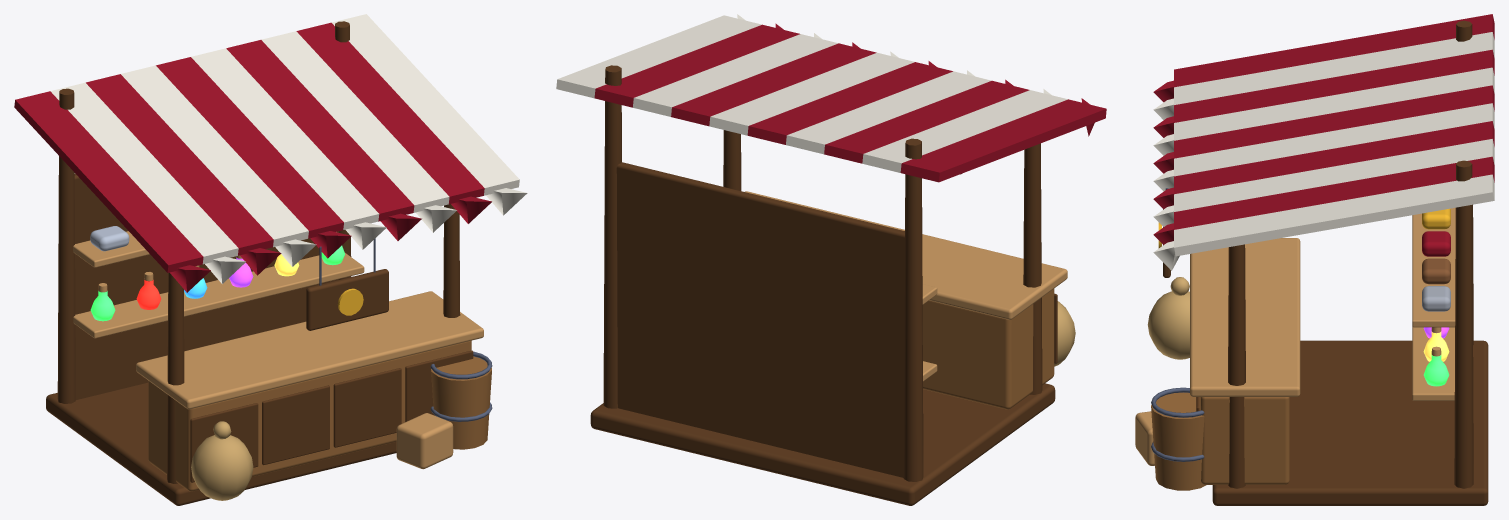
The model's file is prop_shop.glb.
3 views of the same model, side by side, from view 1: azimuth 30°, elevation 25°; view 2: azimuth 150°, elevation 25°; view 3: azimuth 270°, elevation 25° (orthographic). The views are drawn at different scales.
Visible parts, largest first — view 1: CounterTop, BackWall, Awning0, Floor, Counter, Awning7, Awning5, Awning3, Awning4, Awning6, Awning2, Awning8 (+26 smaller); view 2: BackWall, Floor, Counter, CounterTop, Awning0, Post0, Post1, Awning2, Awning5, Awning3, Awning6, Awning4 (+7 smaller); view 3: Floor, CounterTop, Awning9, Counter, Awning5, Awning4, Awning3, Awning6, Awning2, Awning7, Awning1, Awning0 (+17 smaller).
Boxes of the visible parts, left/top/right/bottom form: CounterTop: left=136, top=291, right=483, bottom=409; BackWall: left=74, top=173, right=338, bottom=399; Awning0: left=14, top=91, right=203, bottom=272; Floor: left=46, top=382, right=396, bottom=505; Counter: left=148, top=340, right=471, bottom=491; Awning7: left=261, top=31, right=449, bottom=212; Awning5: left=191, top=48, right=379, bottom=229; Awning3: left=121, top=65, right=308, bottom=247; Awning4: left=156, top=57, right=343, bottom=238; Awning6: left=226, top=40, right=414, bottom=221; Awning2: left=86, top=74, right=273, bottom=255; Awning8: left=296, top=22, right=484, bottom=204; BackWall: left=616, top=162, right=904, bottom=477; Floor: left=590, top=383, right=1055, bottom=505; Counter: left=922, top=289, right=1054, bottom=409; CounterTop: left=745, top=191, right=1067, bottom=319; Awning0: left=900, top=99, right=1106, bottom=182; Post0: left=903, top=138, right=923, bottom=481; Post1: left=603, top=65, right=621, bottom=408; Awning2: left=824, top=80, right=1029, bottom=163; Awning5: left=709, top=52, right=914, bottom=135; Awning3: left=786, top=71, right=991, bottom=154; Awning6: left=671, top=43, right=876, bottom=126; Awning4: left=747, top=62, right=952, bottom=144; Floor: left=1212, top=340, right=1488, bottom=505; CounterTop: left=1190, top=238, right=1300, bottom=396; Awning9: left=1174, top=174, right=1494, bottom=256; Counter: left=1200, top=397, right=1289, bottom=484; Awning5: left=1174, top=103, right=1494, bottom=176; Awning4: left=1174, top=85, right=1494, bottom=158; Awning3: left=1174, top=67, right=1494, bottom=140; Awning6: left=1174, top=121, right=1494, bottom=194; Awning2: left=1174, top=49, right=1494, bottom=122; Awning7: left=1174, top=139, right=1494, bottom=211; Awning1: left=1174, top=32, right=1494, bottom=104; Awning0: left=1174, top=14, right=1494, bottom=87.
Bounding box in the file's own units: 2.6 × 2.3 × 2.21.
